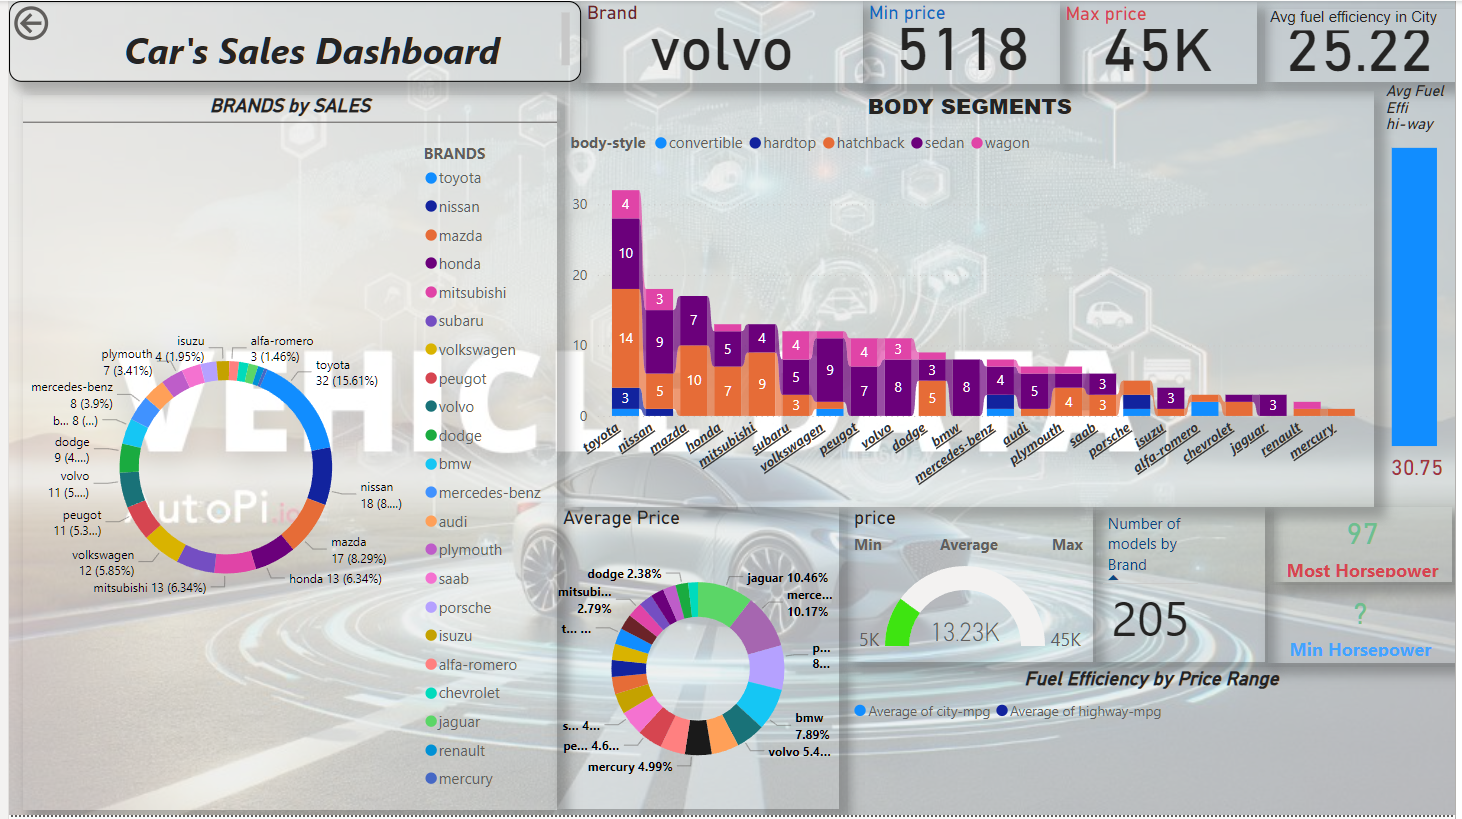

The page's visual inventory and layout, read from the dashboard file:
{"tool":"powerbi","page":{"name":"cars","canvas":[1280,720],"ordinal":0},"visuals":[{"type":"textbox","box":[0,0,506,72],"z":0},{"type":"donutChart","title":" BRANDS by SALES","fields":{"Y":["CountNonNull(cars.make)"],"Category":["cars.make"]},"box":[12.9,83.2,472.6,633.1],"z":1000},{"type":"columnChart","title":"BODY SEGMENTS ","fields":{"Y":["CountNonNull(cars.body-style)"],"Category":["cars.make"],"Series":["cars.body-style"]},"box":[492,80.1,716.8,367.6],"z":2000},{"type":"donutChart","title":"Average  Price","fields":{"Category":["cars.make"],"Y":["Avg(cars.price)"]},"box":[485.3,447.7,249.9,268.2],"z":3000},{"type":"gauge","title":"price","fields":{"MinValue":["Min(cars.price)"],"MaxValue":["Max(cars.price)"],"Y":["Avg(cars.price)1"]},"box":[742.9,447.7,216.1,138],"z":4000},{"type":"card","title":"Brand","fields":{"Values":["Max(cars.make)"]},"box":[506.3,0,249.7,72.3],"z":5000},{"type":"lineChart","title":"Fuel Efficiency by Price Range","fields":{"Y":["Avg(cars.city-mpg)"],"Category":["cars.make","cars.price"],"Y2":["Avg(cars.highway-mpg)"]},"box":[743.1,589.6,537,130.8],"z":6000},{"type":"card","title":"Min price","fields":{"Values":["Min(cars.price)"]},"box":[756,0,174.4,73.3],"z":7000},{"type":"card","title":"Max price","fields":{"Values":["Max(cars.price)"]},"box":[930.4,1,174.4,72.3],"z":8000},{"type":"card","title":"Avg fuel efficiency in City","fields":{"Values":["Avg(cars.city-mpg)"]},"box":[1111.7,6.9,168.4,65.4],"z":9000},{"type":"actionButton","box":[0,0,100,40],"z":10000},{"type":"tableEx","title":"n","fields":{"Values":["cars.make"]},"box":[962.1,447.9,149.6,137.7],"z":11000},{"type":"hundredPercentStackedColumnChart","title":"Avg Fuel Effi hi-way","fields":{"Y":["Avg(cars.highway-mpg)"]},"box":[1213.8,72.3,66.4,328],"z":12000},{"type":"card","fields":{"Values":["Avg(cars.highway-mpg)"]},"box":[1213.8,379.5,66.4,68.4],"z":13000},{"type":"card","fields":{"Values":["cars.Measure"]},"box":[1119.7,447.9,156.6,67.4],"z":14000},{"type":"card","fields":{"Values":["cars.Measure 2"]},"box":[1114.7,517.2,165.5,68.4],"z":15000}]}

Visuals, with their boxes in screenshot pixels (x1, y1, x2, y2), scaled from the page's 1280x720 canvas onto the 1462x819 screenshot:
textbox: (left=0, top=0, right=578, bottom=82)
" BRANDS by SALES" donutChart: (left=15, top=95, right=555, bottom=815)
"BODY SEGMENTS " columnChart: (left=562, top=91, right=1381, bottom=509)
"Average  Price" donutChart: (left=554, top=509, right=840, bottom=814)
"price" gauge: (left=849, top=509, right=1095, bottom=666)
"Brand" card: (left=578, top=0, right=863, bottom=82)
"Fuel Efficiency by Price Range" lineChart: (left=849, top=671, right=1461, bottom=818)
"Min price" card: (left=863, top=0, right=1063, bottom=83)
"Max price" card: (left=1063, top=1, right=1262, bottom=83)
"Avg fuel efficiency in City" card: (left=1270, top=8, right=1461, bottom=82)
actionButton: (left=0, top=0, right=114, bottom=46)
"n" tableEx: (left=1099, top=509, right=1270, bottom=666)
"Avg Fuel Effi hi-way" hundredPercentStackedColumnChart: (left=1386, top=82, right=1461, bottom=455)
card - Avg(cars.highway-mpg): (left=1386, top=432, right=1461, bottom=509)
card - cars.Measure: (left=1279, top=509, right=1458, bottom=586)
card - cars.Measure 2: (left=1273, top=588, right=1461, bottom=666)
